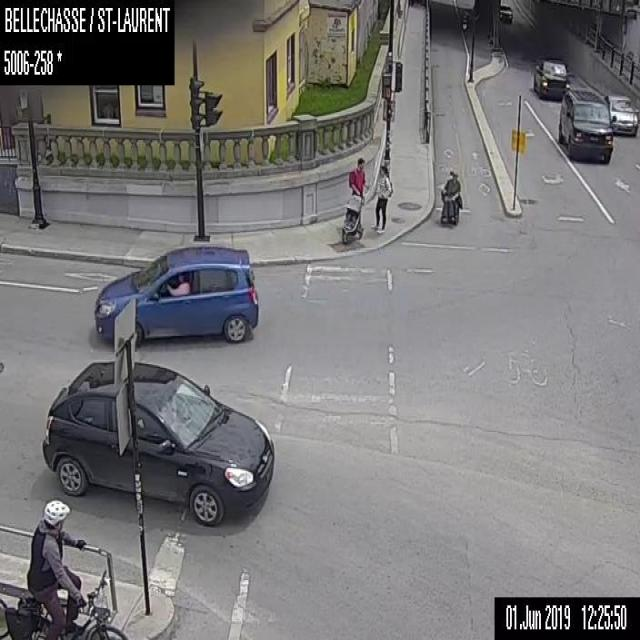cyclist: (5, 496, 126, 639)
pedestrian: (340, 156, 365, 243), (370, 164, 392, 233), (439, 169, 462, 224)
vehicle: (41, 360, 273, 525), (93, 244, 257, 348), (558, 88, 613, 163), (533, 59, 573, 99), (604, 93, 638, 136), (498, 4, 512, 20)
